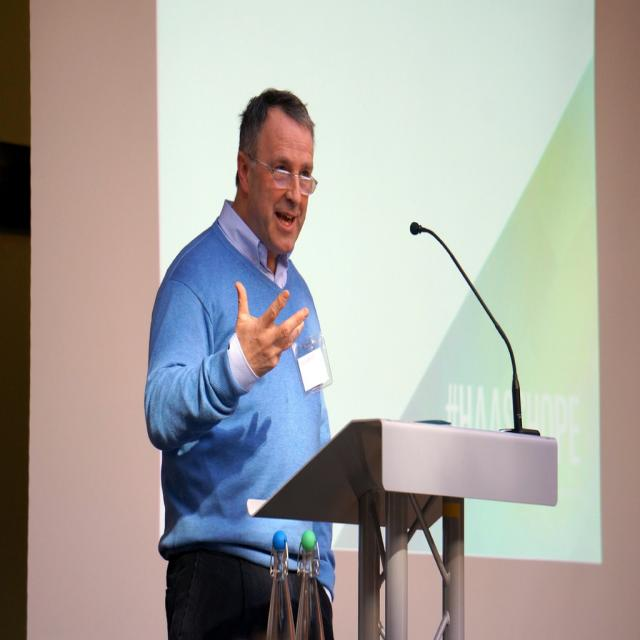desk: (258, 360, 542, 640)
person: (144, 86, 343, 630)
